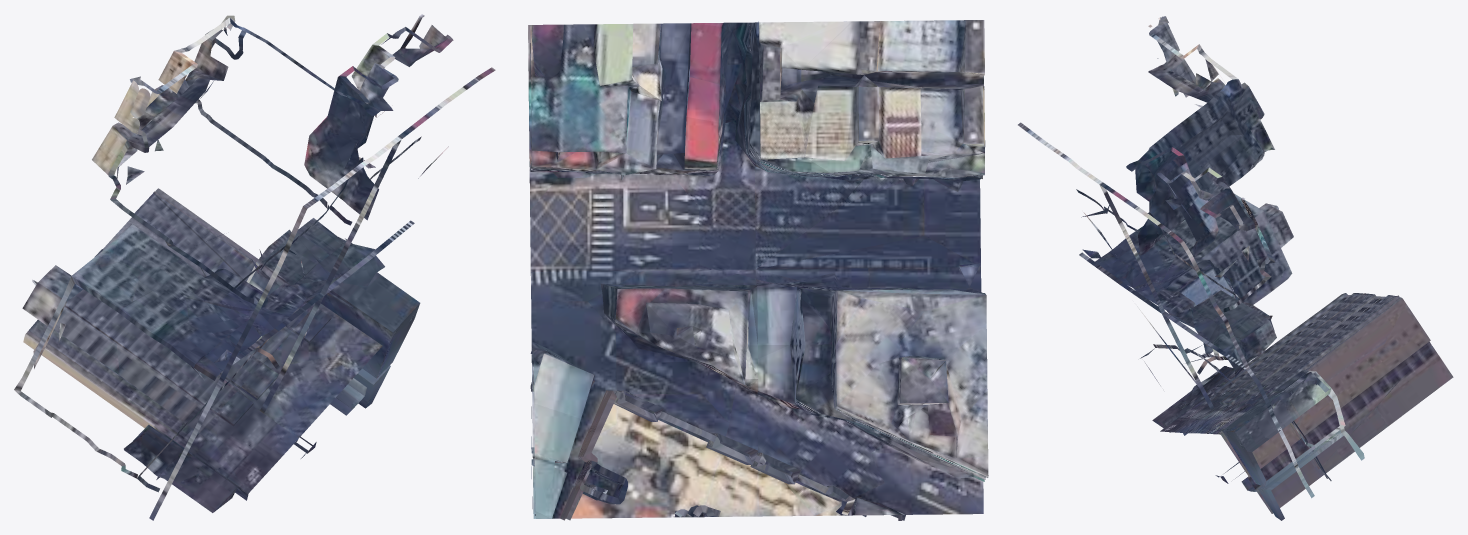
The picture shows the model from 3 angles, left to right: view 1: azimuth 30°, elevation 25°; view 2: azimuth 150°, elevation 25°; view 3: azimuth 270°, elevation 25°; orthographic projection. The views are drawn at different scales.
Bounding box in the file's own units: 91.2 × 90.29 × 94.06.
Materials: 2 (2 with a texture image).
